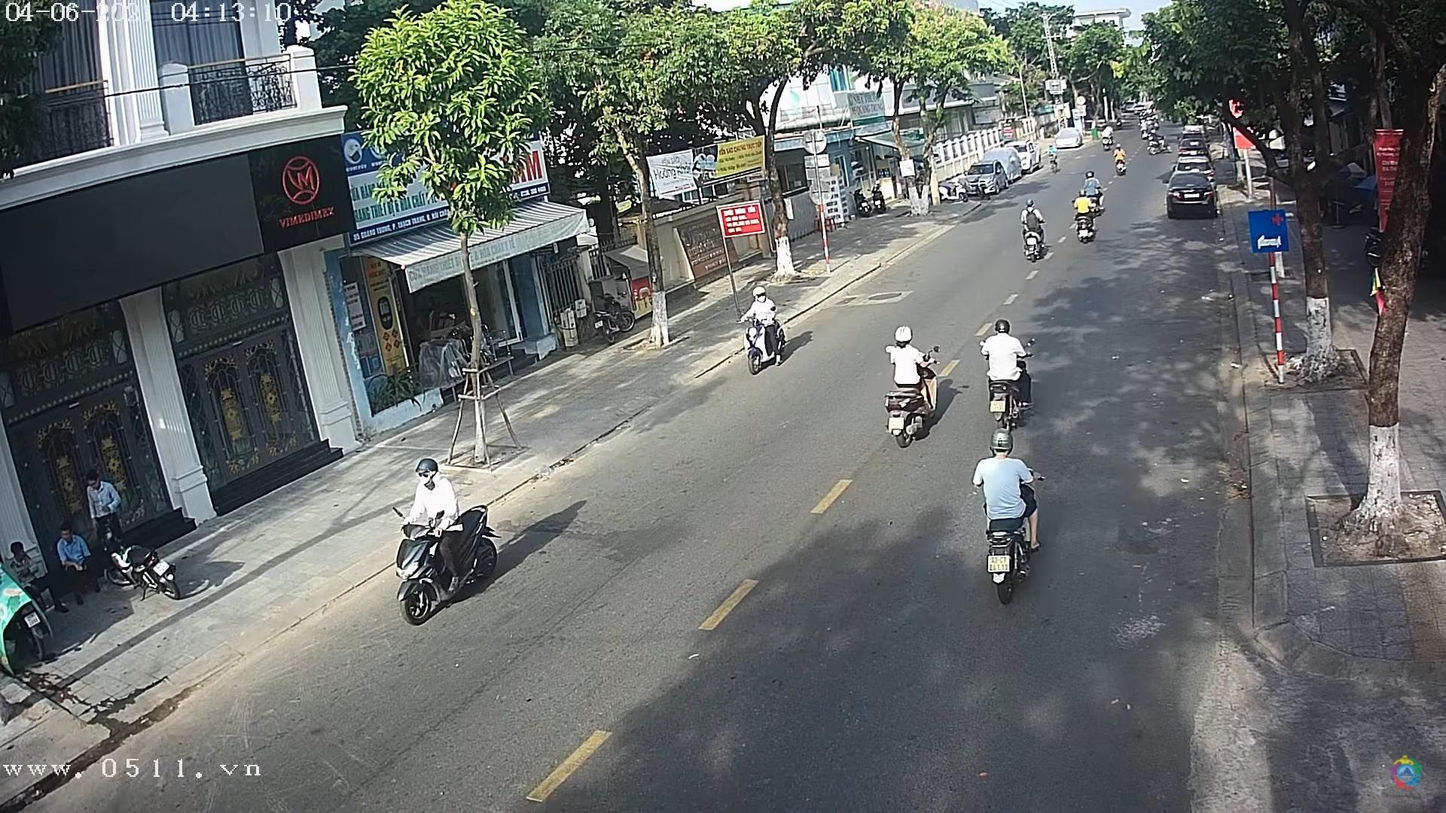car: (1166, 166, 1225, 218)
motorbike: (389, 499, 503, 622), (980, 465, 1049, 601), (883, 349, 944, 457), (984, 347, 1036, 425), (743, 302, 793, 376), (1021, 209, 1051, 259), (1074, 202, 1099, 246)
